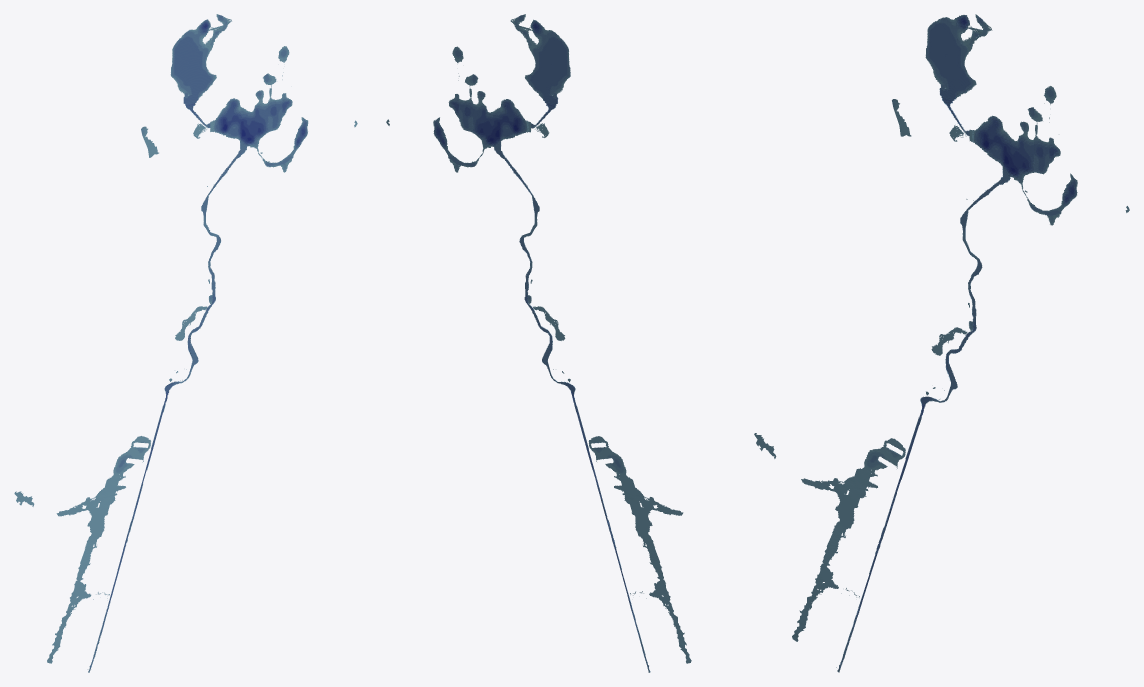
File: triangle_mesh.glb
3 renders of one model, left to right at view 1: azimuth 30°, elevation 25°; view 2: azimuth 150°, elevation 25°; view 3: azimuth 330°, elevation 25°, orthographic. The views are drawn at different scales.
Visible parts, largest first — view 1: world; view 2: world; view 3: world.
Part boxes in pixels (left/top/right/bottom): world: left=14, top=14, right=357, bottom=672; world: left=386, top=14, right=691, bottom=672; world: left=754, top=14, right=1129, bottom=672.
Bounding box in the file's own units: 1557 × 2739 × 18.73.
